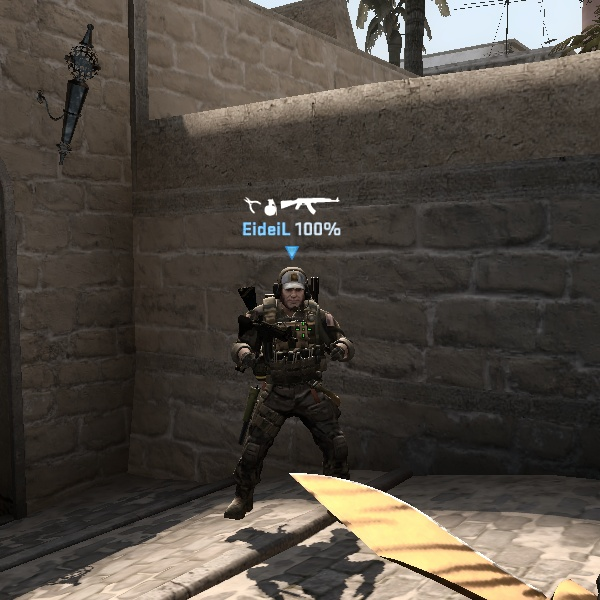ct_body: (215, 259, 366, 529)
ct_head: (267, 263, 319, 317)
